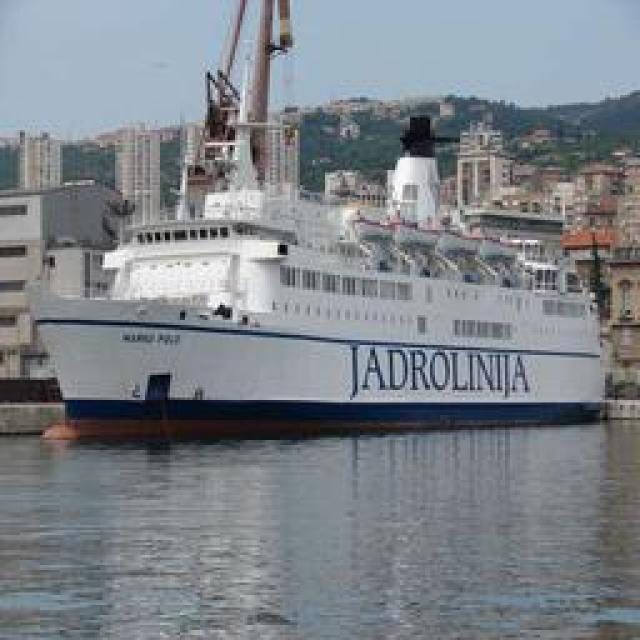Ship: (44, 72, 604, 422)
